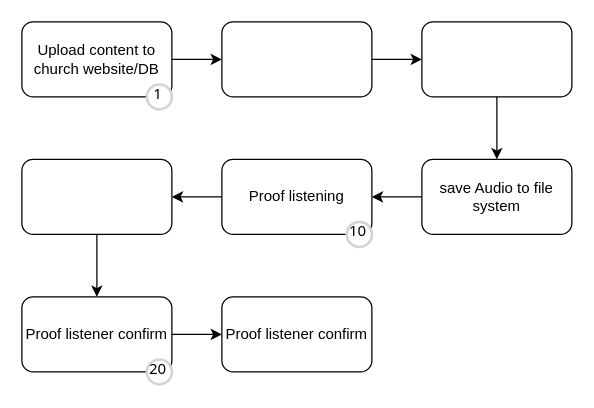
The diagram is 594 pixels wide and 408 high, and some of its shapes have lost their labels. The centre of each missing label's shape, as x and y in pixels:
"Converter fix issues" goes at (x=96, y=196).
"java programming tidy up content and generate transcript" goes at (x=296, y=59).
"Send transcript to AI" goes at (x=496, y=59).
